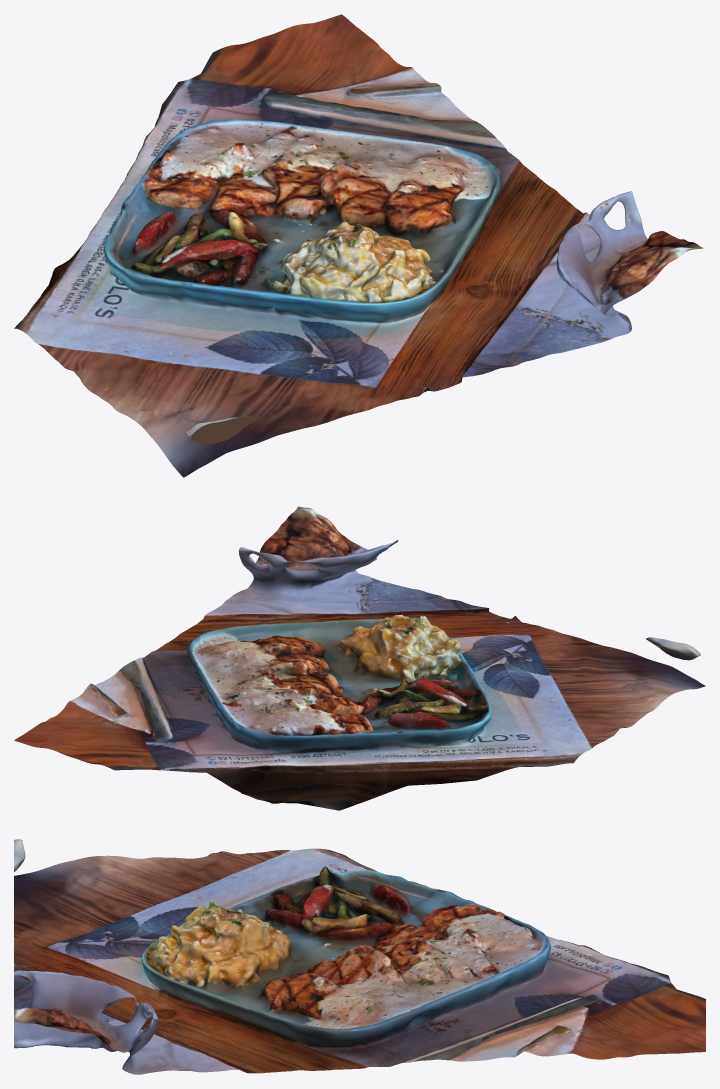
The model's file is tarragon.glb.
3 views of the same model, one above another, from view 1: azimuth 30°, elevation 25°; view 2: azimuth 150°, elevation 25°; view 3: azimuth 270°, elevation 25° (orthographic). The views are drawn at different scales.
Parts seen in each view (by area): view 1: 3DModel; view 2: 3DModel; view 3: 3DModel.
Boxes of the visible parts, x1=… form: 3DModel: x1=14, y1=14, x2=703, y2=477; 3DModel: x1=14, y1=506, x2=705, y2=810; 3DModel: x1=14, y1=839, x2=705, y2=1074.
Bounding box in the file's own units: 1.25 × 0.2639 × 1.51.
1 material, 1 textured.
